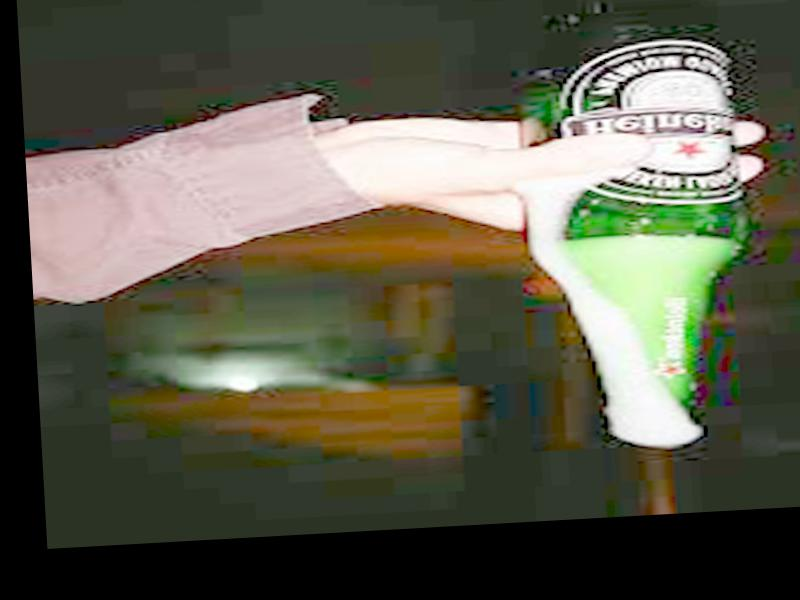Beer: (514, 26, 763, 433)
